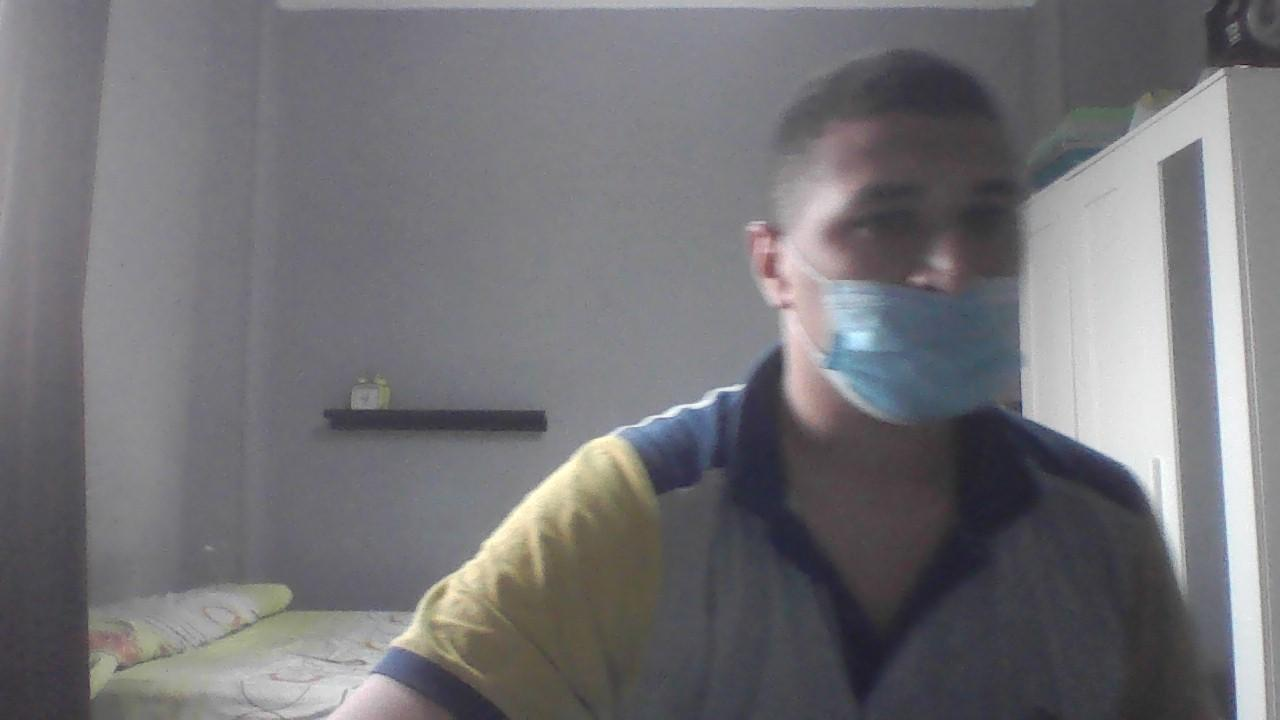mask_weared_incorrect: (815, 97, 1027, 435)
